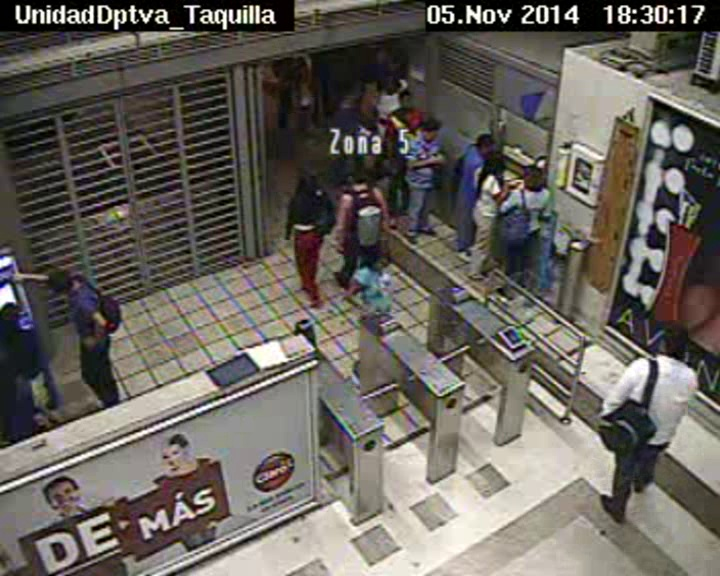person: (656, 319, 691, 358), (46, 265, 75, 293), (358, 78, 385, 107), (520, 164, 546, 193), (417, 115, 444, 142), (2, 302, 27, 331), (293, 165, 320, 191), (482, 148, 507, 174), (365, 247, 388, 273), (346, 160, 369, 183), (473, 130, 494, 154), (398, 91, 414, 107), (385, 79, 399, 93), (296, 65, 310, 78)
